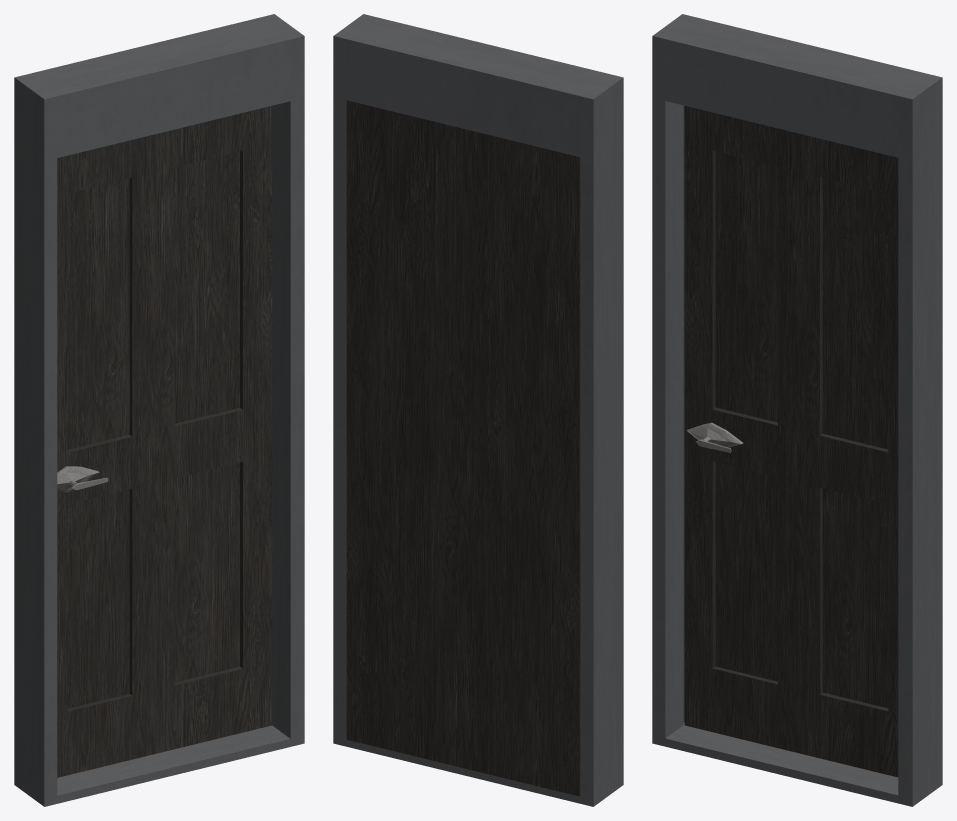
Rendered from Door.fbx.
3 views of the same model, side by side, from view 1: azimuth 30°, elevation 25°; view 2: azimuth 150°, elevation 25°; view 3: azimuth 330°, elevation 25° (orthographic).
Visible parts, largest first — view 1: pCube3; view 2: pCube3; view 3: pCube3.
Boxes of the visible parts, bbox=[...] form: pCube3: bbox=[14, 14, 304, 806]; pCube3: bbox=[333, 14, 623, 806]; pCube3: bbox=[652, 14, 942, 806].
Size of the model in its own units: 1 by 2.6 by 0.2027.
